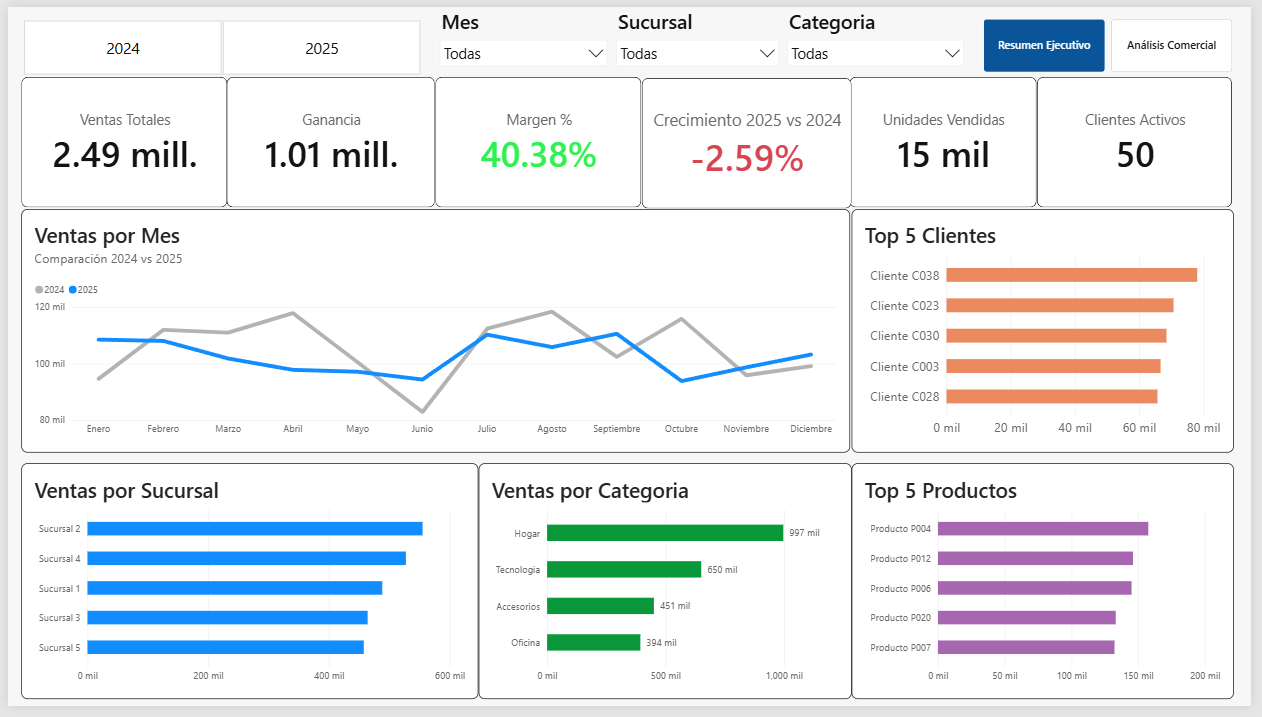

Layout of this report page (visuals, bound fields, positions):
{"tool":"powerbi","page":{"name":"Resumen Ejecutivo","canvas":[1600,900],"ordinal":0},"visuals":[{"type":"slicer","fields":{"Values":["Dim_Calendario.Año"]},"box":[0,15,550,73.3],"z":0},{"type":"slicer","fields":{"Values":["Dim_Calendario.Mes"]},"box":[550,1.7,226.7,88.3],"z":1000},{"type":"slicer","fields":{"Values":["Dim_Sucursales.Sucursal"]},"box":[776.7,1.7,220,81.7],"z":2000},{"type":"slicer","fields":{"Values":["Dim_Productos.Categoria"]},"box":[996.7,1.7,238.3,81.7],"z":3000},{"type":"cardVisual","fields":{"Data":["Medidas Base.Ventas Totales"]},"box":[16.7,90,265,168.3],"z":4000},{"type":"cardVisual","fields":{"Data":["Medidas Base.Ganancia"]},"box":[281.7,90,268.3,168.3],"z":5000},{"type":"cardVisual","fields":{"Data":["KPIs.Margen %"]},"box":[550,90,265,168.3],"z":6000},{"type":"cardVisual","fields":{"Data":["Medidas Base.Cantidad Vendida"]},"box":[1083.3,90,241.7,168.3],"z":7000},{"type":"cardVisual","fields":{"Data":["KPIs.Clientes Activos"]},"box":[1325,90,251.7,168.3],"z":8000},{"type":"cardVisual","fields":{"Data":["Inteligencia de Tiempo.Crecimiento 2025 vs 2024"]},"box":[815,91.7,270,168.3],"z":9000},{"type":"lineChart","title":"Ventas por Mes","fields":{"Category":["Dim_Calendario.Mes"],"Series":["Dim_Calendario.Año"],"Y":["Medidas Base.Ventas Totales"]},"box":[16.7,260,1066.7,313.3],"z":10000},{"type":"barChart","title":"Ventas por Categoria","fields":{"Category":["Dim_Productos.Categoria"],"Y":["Medidas Base.Ventas Totales"]},"box":[605,586.7,480,303.3],"z":11000},{"type":"clusteredBarChart","title":"Ventas por Sucursal","fields":{"Category":["Dim_Sucursales.Sucursal"],"Y":["Medidas Base.Ventas Totales"]},"box":[16.7,586.7,588.3,303.3],"z":12000},{"type":"clusteredBarChart","title":"Top 5 Clientes","fields":{"Category":["Dim_Clientes.Cliente"],"Y":["Medidas Base.Ventas Totales"]},"box":[1085,260,491.7,313.3],"z":13000},{"type":"clusteredBarChart","title":"Top 5 Productos","fields":{"Category":["Dim_Productos.Producto"],"Y":["Medidas Base.Ventas Totales"]},"box":[1085,586.7,491.7,303.3],"z":14000},{"type":"pageNavigator","box":[1255,15,321.7,68.3],"z":15000}]}

Visuals, with their boxes in screenshot pixels (x1, y1, x2, y2), scaled from the page's 1600x900 canvas onto the 1262x717 screenshot:
slicer - Dim_Calendario.Año: locate(0, 12, 434, 70)
slicer - Dim_Calendario.Mes: locate(434, 1, 613, 72)
slicer - Dim_Sucursales.Sucursal: locate(613, 1, 786, 66)
slicer - Dim_Productos.Categoria: locate(786, 1, 974, 66)
cardVisual - Medidas Base.Ventas Totales: locate(13, 72, 222, 206)
cardVisual - Medidas Base.Ganancia: locate(222, 72, 434, 206)
cardVisual - KPIs.Margen %: locate(434, 72, 643, 206)
cardVisual - Medidas Base.Cantidad Vendida: locate(854, 72, 1045, 206)
cardVisual - KPIs.Clientes Activos: locate(1045, 72, 1244, 206)
cardVisual - Inteligencia de Tiempo.Crecimiento 2025 vs 2024: locate(643, 73, 856, 207)
"Ventas por Mes" lineChart: locate(13, 207, 855, 457)
"Ventas por Categoria" barChart: locate(477, 467, 856, 709)
"Ventas por Sucursal" clusteredBarChart: locate(13, 467, 477, 709)
"Top 5 Clientes" clusteredBarChart: locate(856, 207, 1244, 457)
"Top 5 Productos" clusteredBarChart: locate(856, 467, 1244, 709)
pageNavigator: locate(990, 12, 1244, 66)
